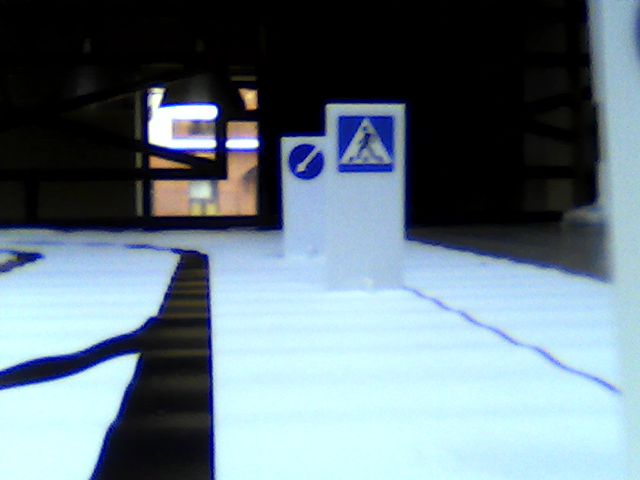pesh: (337, 114, 393, 170)
prep: (288, 143, 326, 180)
